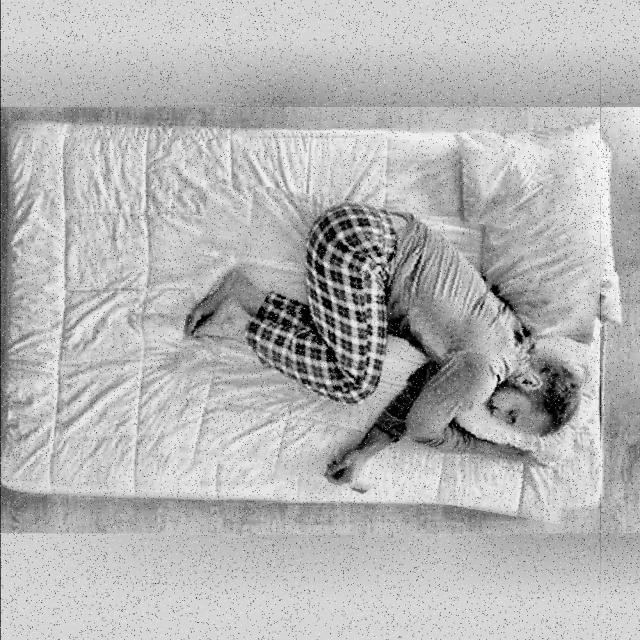Not_Supine: (185, 204, 582, 486)
